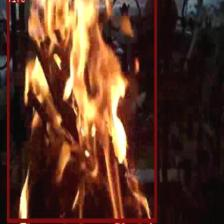fire: (7, 0, 156, 222)
